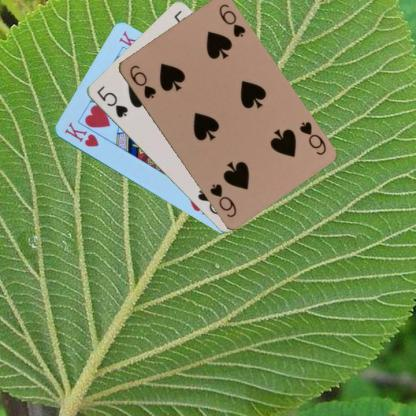5s: (94, 83, 129, 119)
6s: (296, 118, 327, 156), (127, 62, 157, 100)
Kh: (62, 120, 100, 148)
